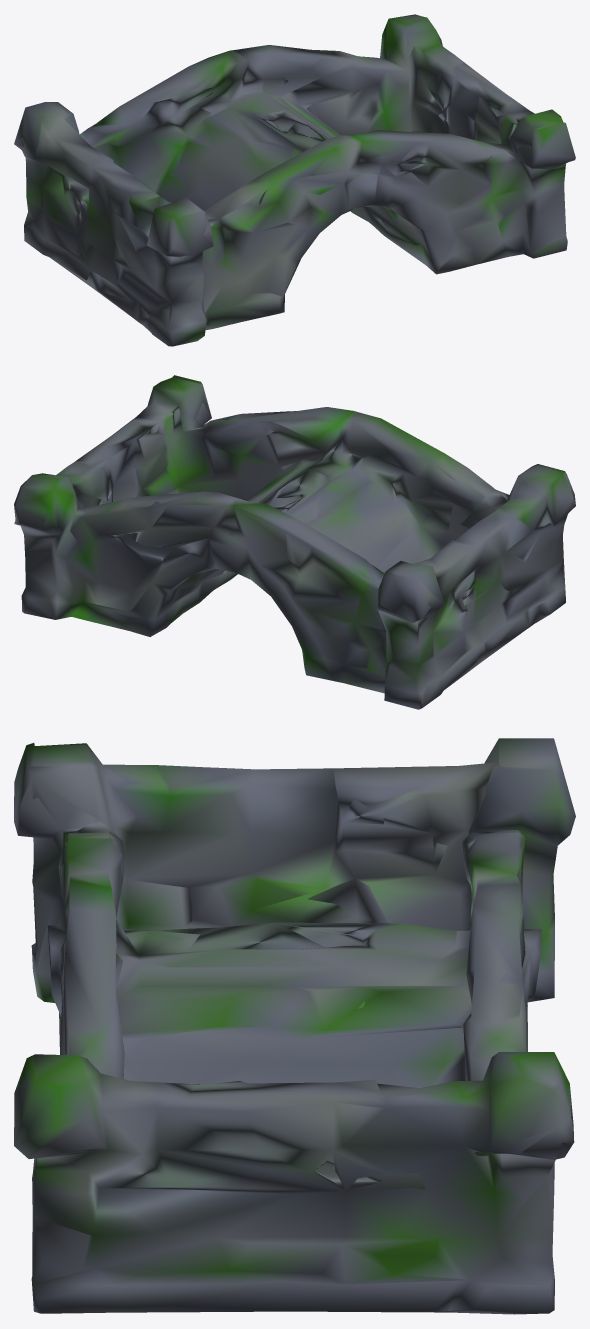
Rendered from gen3d-stone-bridge-lod0.glb.
3 renders of one model, top to bottom at view 1: azimuth 30°, elevation 25°; view 2: azimuth 150°, elevation 25°; view 3: azimuth 270°, elevation 25°, orthographic. The views are drawn at different scales.
Parts seen in each view (by area): view 1: part_0; view 2: part_0; view 3: part_0.
Part boxes in pixels (x1,y1,x2,y2): part_0: [14, 14, 575, 346]; part_0: [14, 375, 575, 709]; part_0: [14, 738, 575, 1314].
Bounding box in the file's own units: 2.83 × 0.9982 × 1.89.
